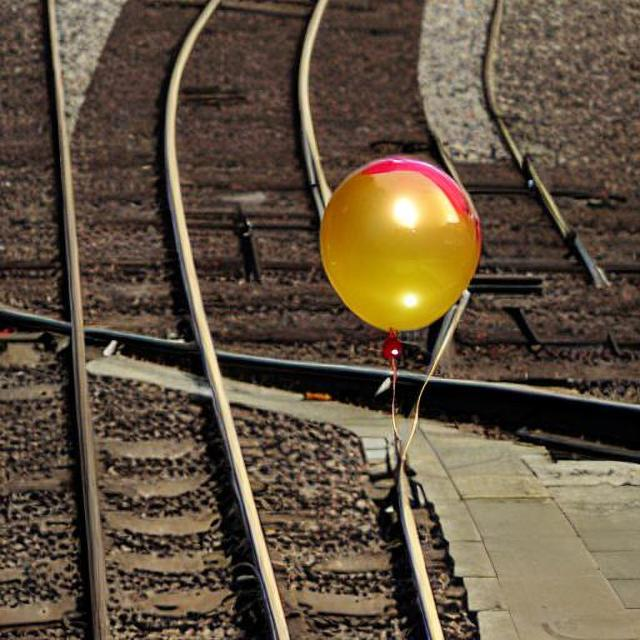balloon: (315, 148, 478, 372)
